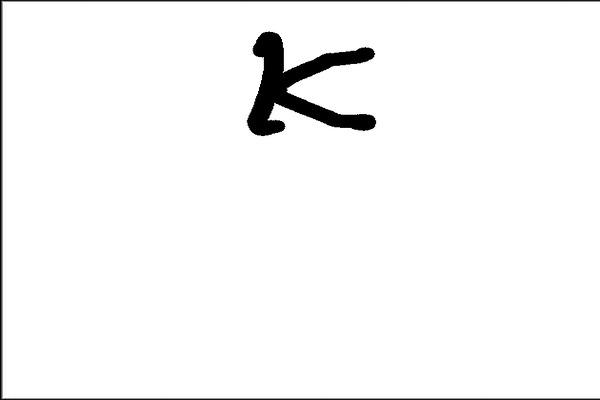K: (239, 25, 386, 147)
